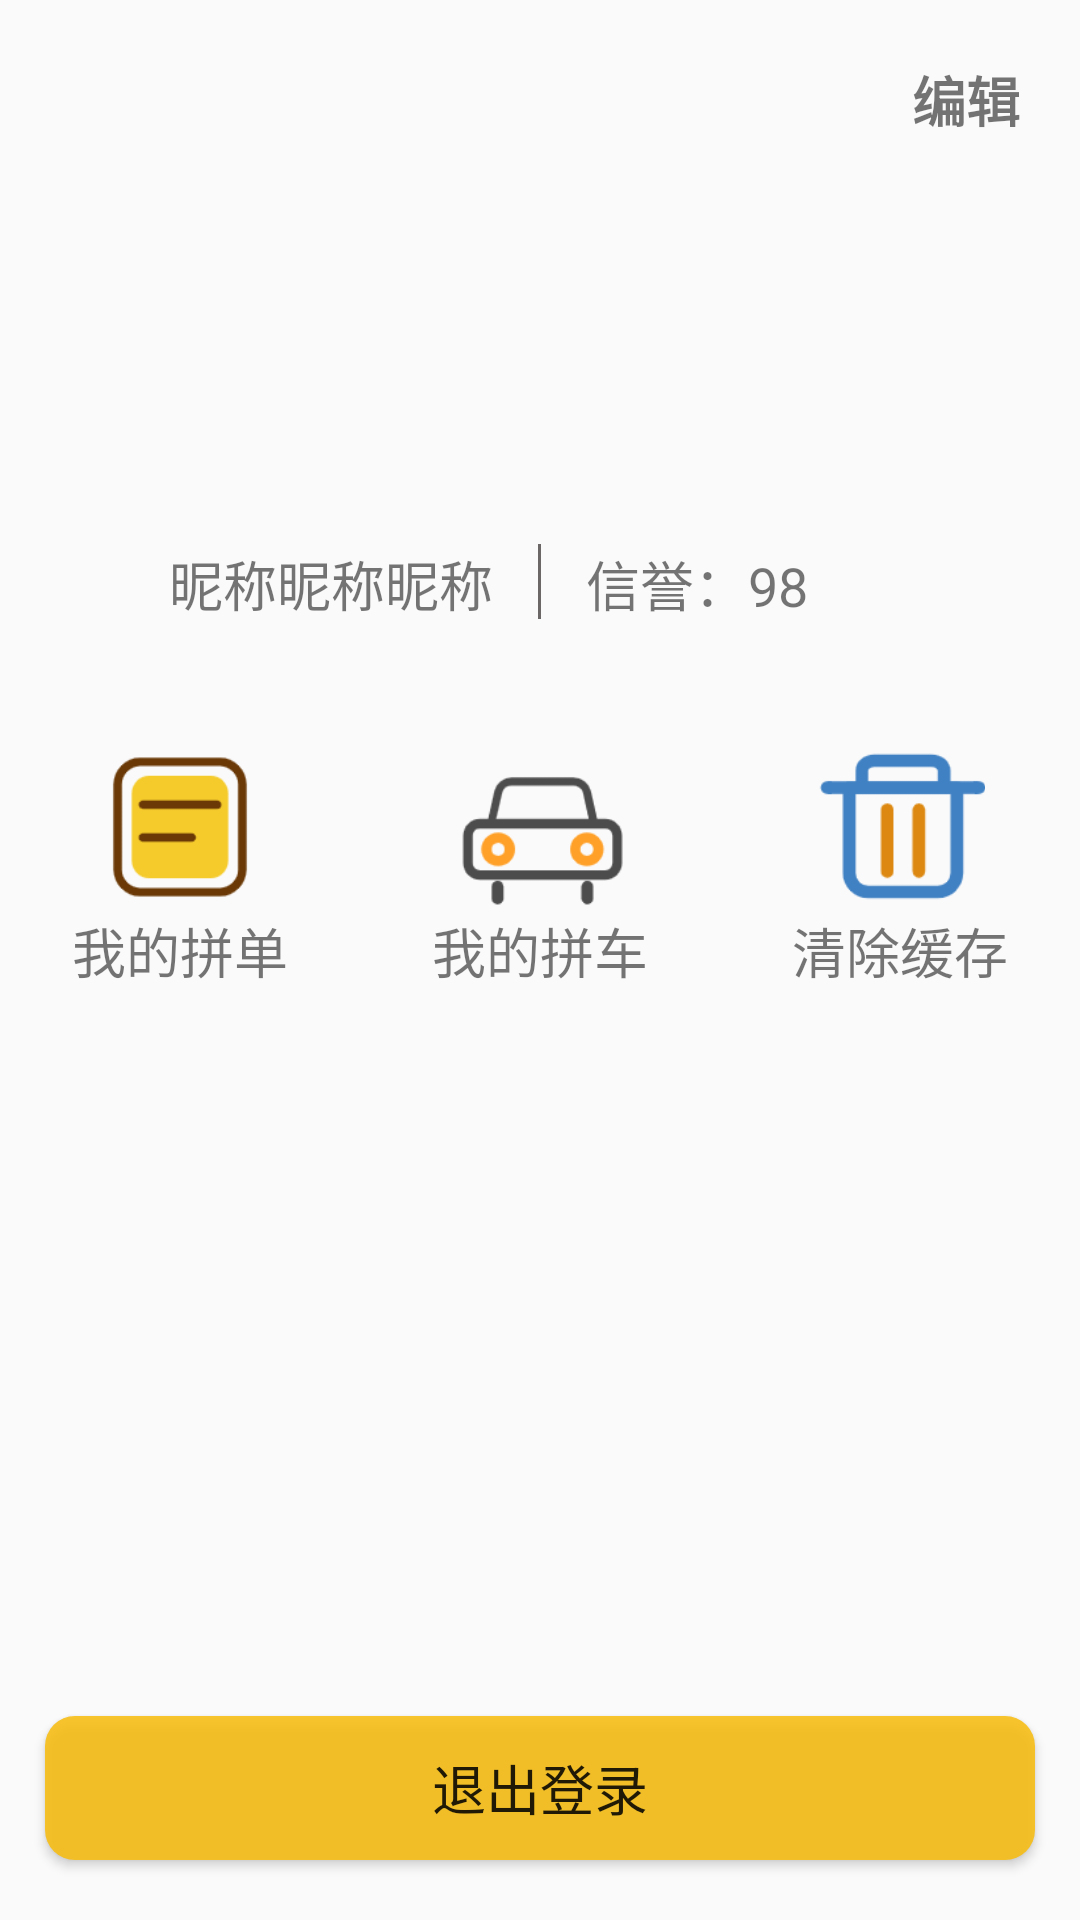

Icons on this 1080 × 1920 Android screen, each with its box as BBox(x1, y1, x2, y2):
createcar: BBox(462, 777, 623, 905)
createorder: BBox(113, 757, 247, 897)
trash: BBox(820, 754, 985, 899)
